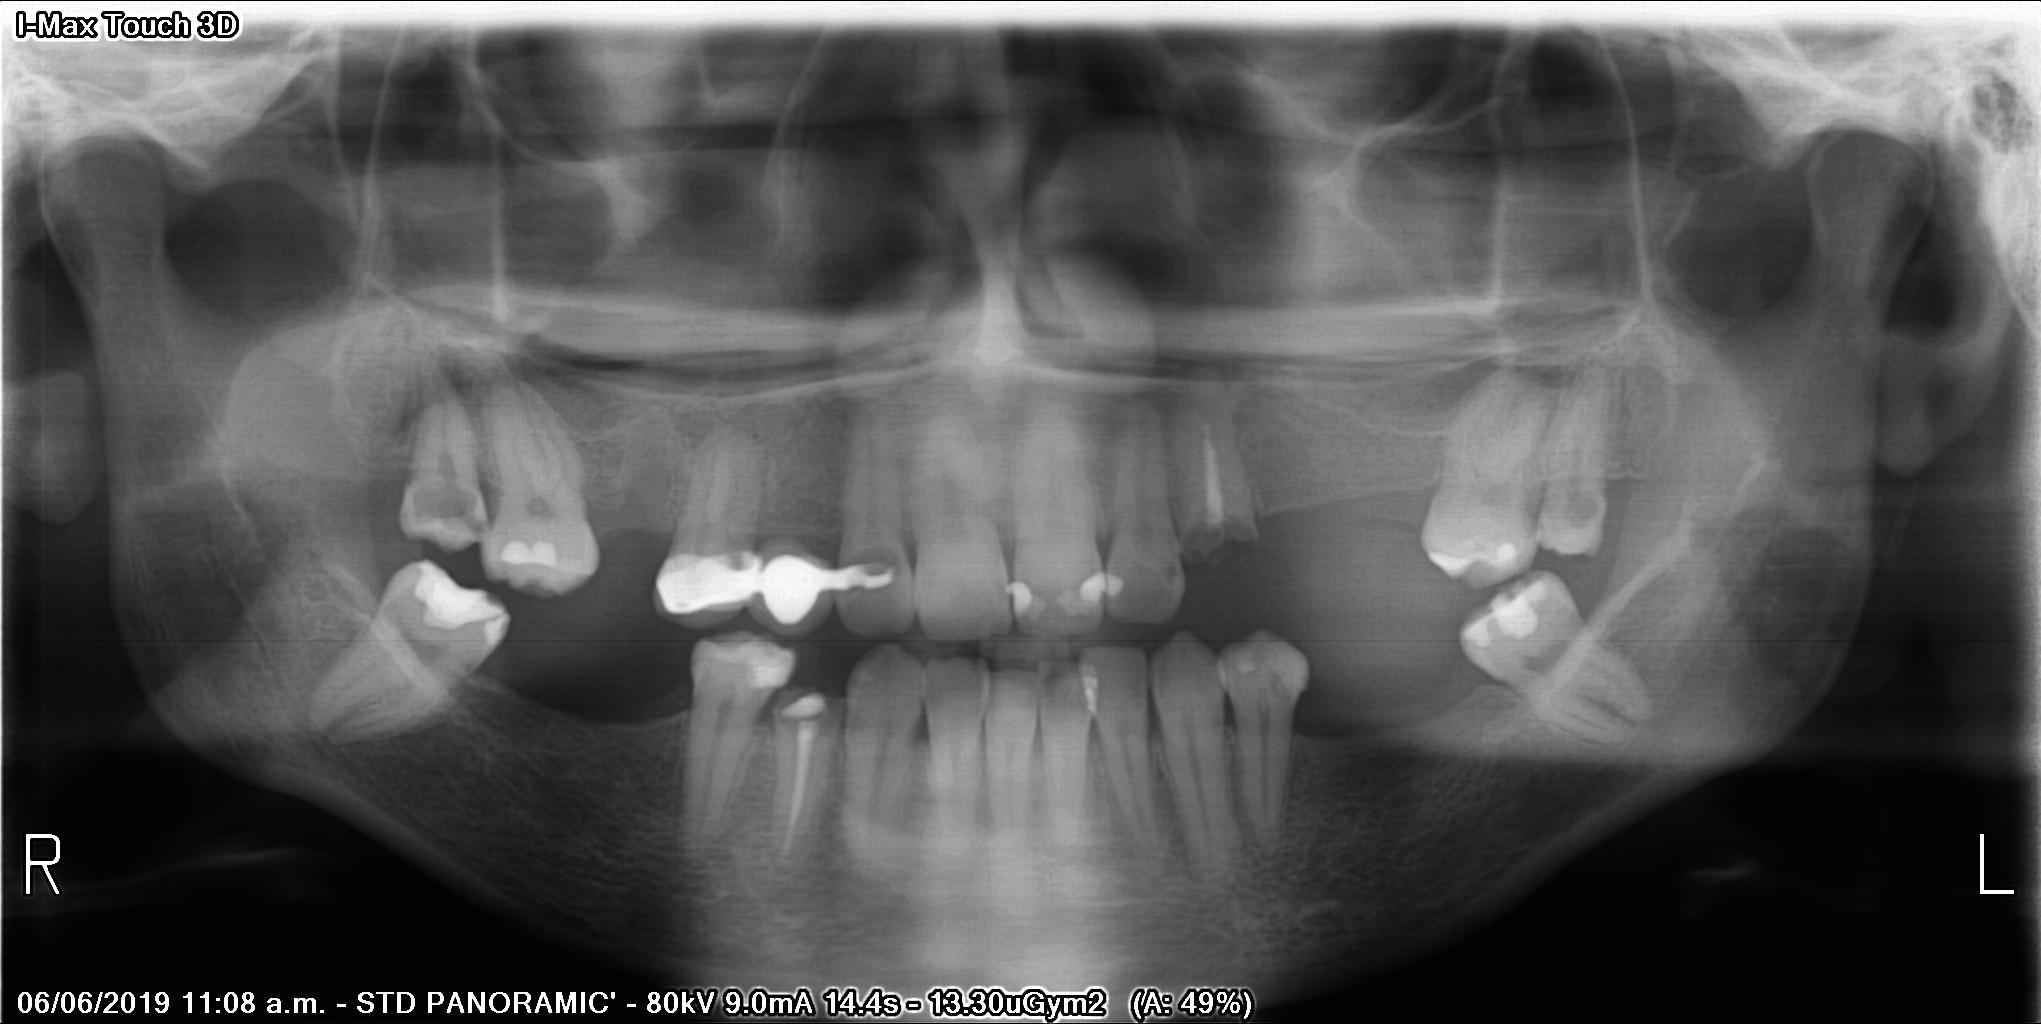Çürük: (402, 552, 516, 655), (650, 532, 761, 622), (1457, 586, 1548, 658), (734, 634, 804, 696), (489, 528, 573, 574), (1414, 534, 1485, 586), (776, 680, 834, 734), (994, 571, 1049, 624), (1486, 525, 1532, 588), (1069, 660, 1117, 720), (1069, 556, 1110, 622), (1106, 561, 1136, 612)
Çürük Bölgesi: (391, 472, 479, 534), (1129, 570, 1187, 628), (850, 540, 906, 578)
